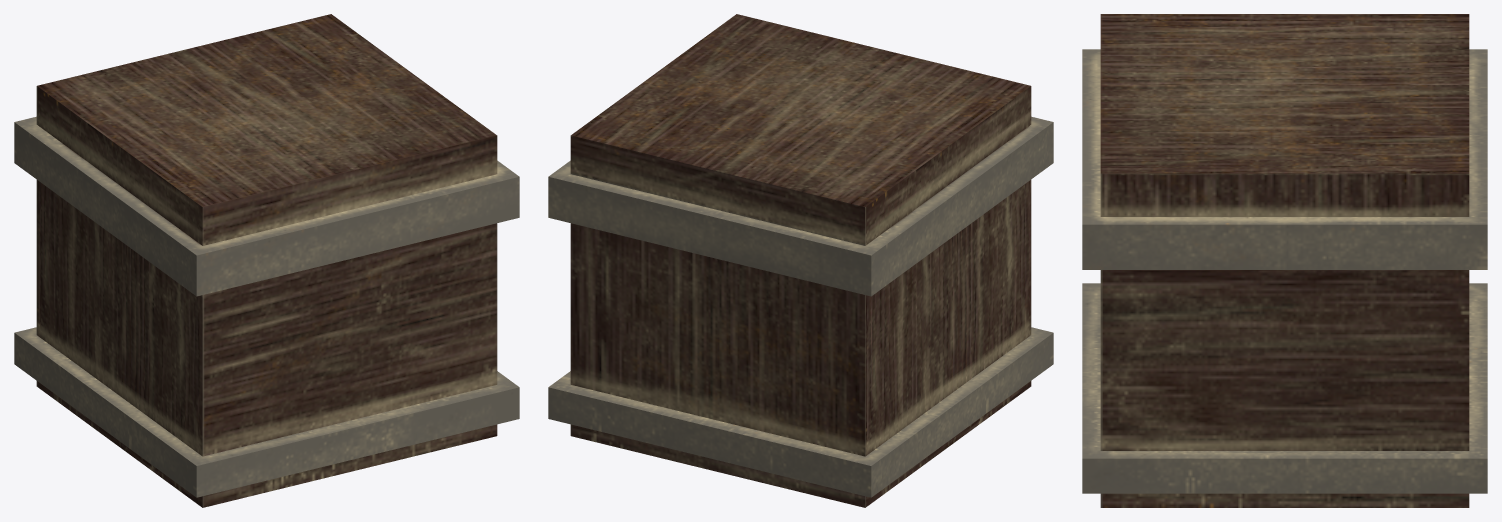
Rendered from Skrzynia.fbx.
3 renders of one model, left to right at view 1: azimuth 30°, elevation 25°; view 2: azimuth 150°, elevation 25°; view 3: azimuth 270°, elevation 25°, orthographic. The views are drawn at different scales.
Visible parts, largest first — view 1: Box367; view 2: Box367; view 3: Box367.
Boxes of the visible parts, left/top/right/bottom form: Box367: left=14, top=14, right=519, bottom=507; Box367: left=548, top=14, right=1053, bottom=507; Box367: left=1082, top=14, right=1487, bottom=507.
Size of the model in its own units: 0.5404 by 0.4808 by 0.5284.
